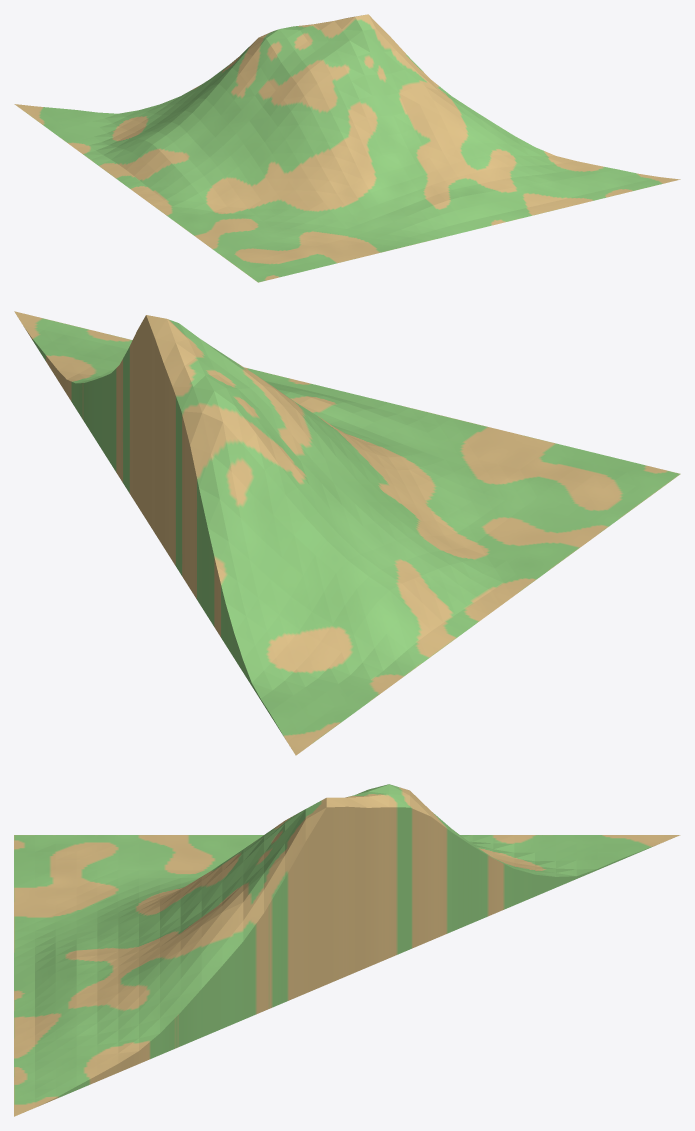
File: Grass_Hills_09_NW.obj
The picture shows the model from 3 angles, top to bottom: view 1: azimuth 30°, elevation 25°; view 2: azimuth 150°, elevation 25°; view 3: azimuth 270°, elevation 25°; orthographic projection. The views are drawn at different scales.
Size of the model in its own units: 10 by 2.95 by 10.
1 material, 1 textured.
